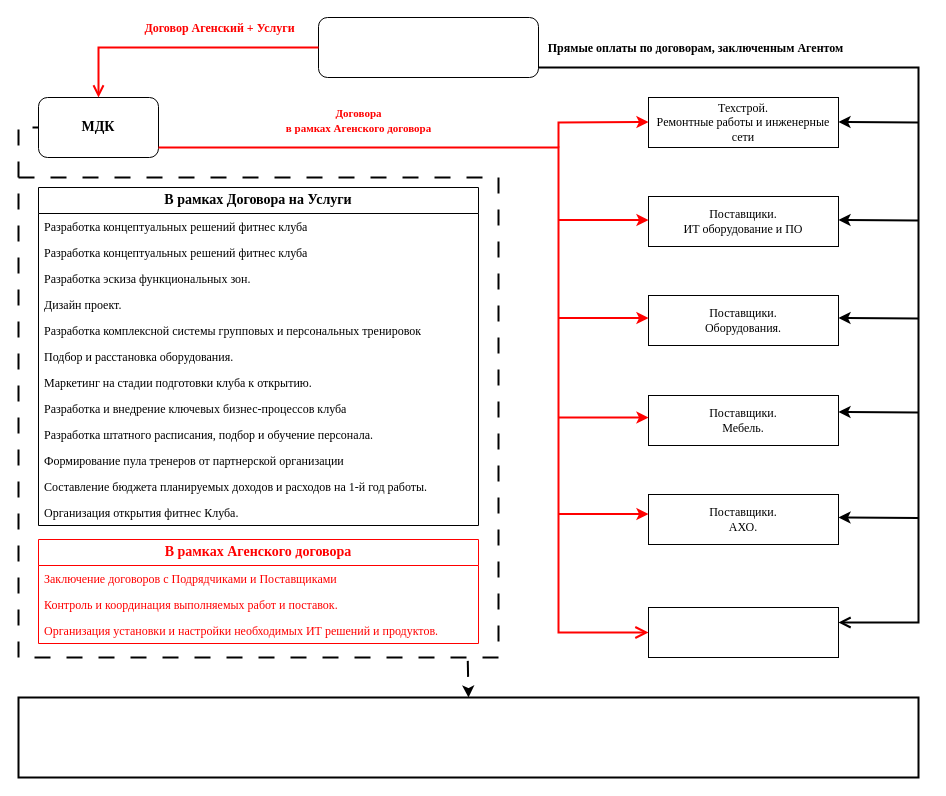
Image size: 946x796. Some labels were removed from this diagram. The centre of each missing label's shape, as x and y in pixels:
"ЗАКАЗЧИК" belongs at point (428, 47).
"Клининг." belongs at point (743, 632).
"ОТКРЫТИЕ КЛУБА" belongs at point (468, 737).
